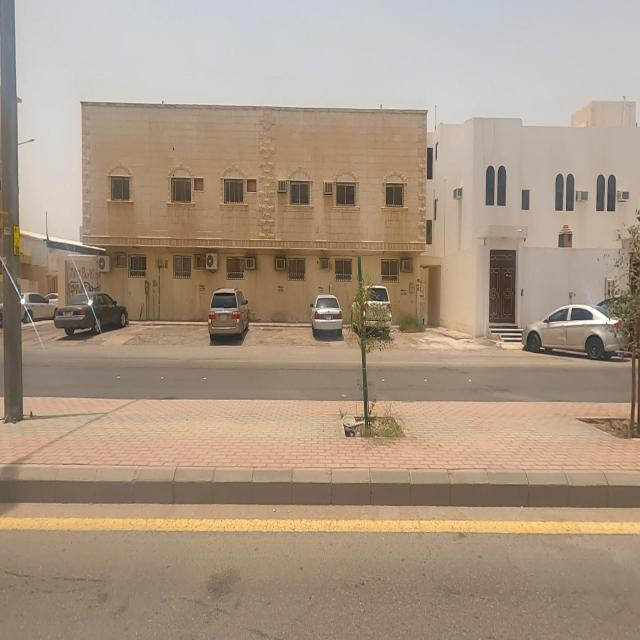Graffiti: (68, 265, 102, 298)
